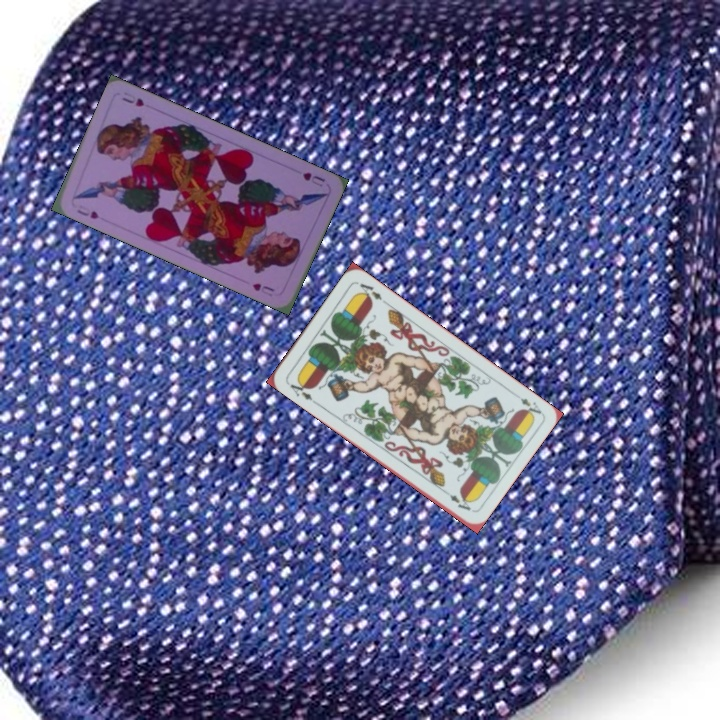EA: (286, 376, 319, 407), (516, 393, 544, 420)
HU: (298, 168, 328, 190), (73, 205, 101, 222)
